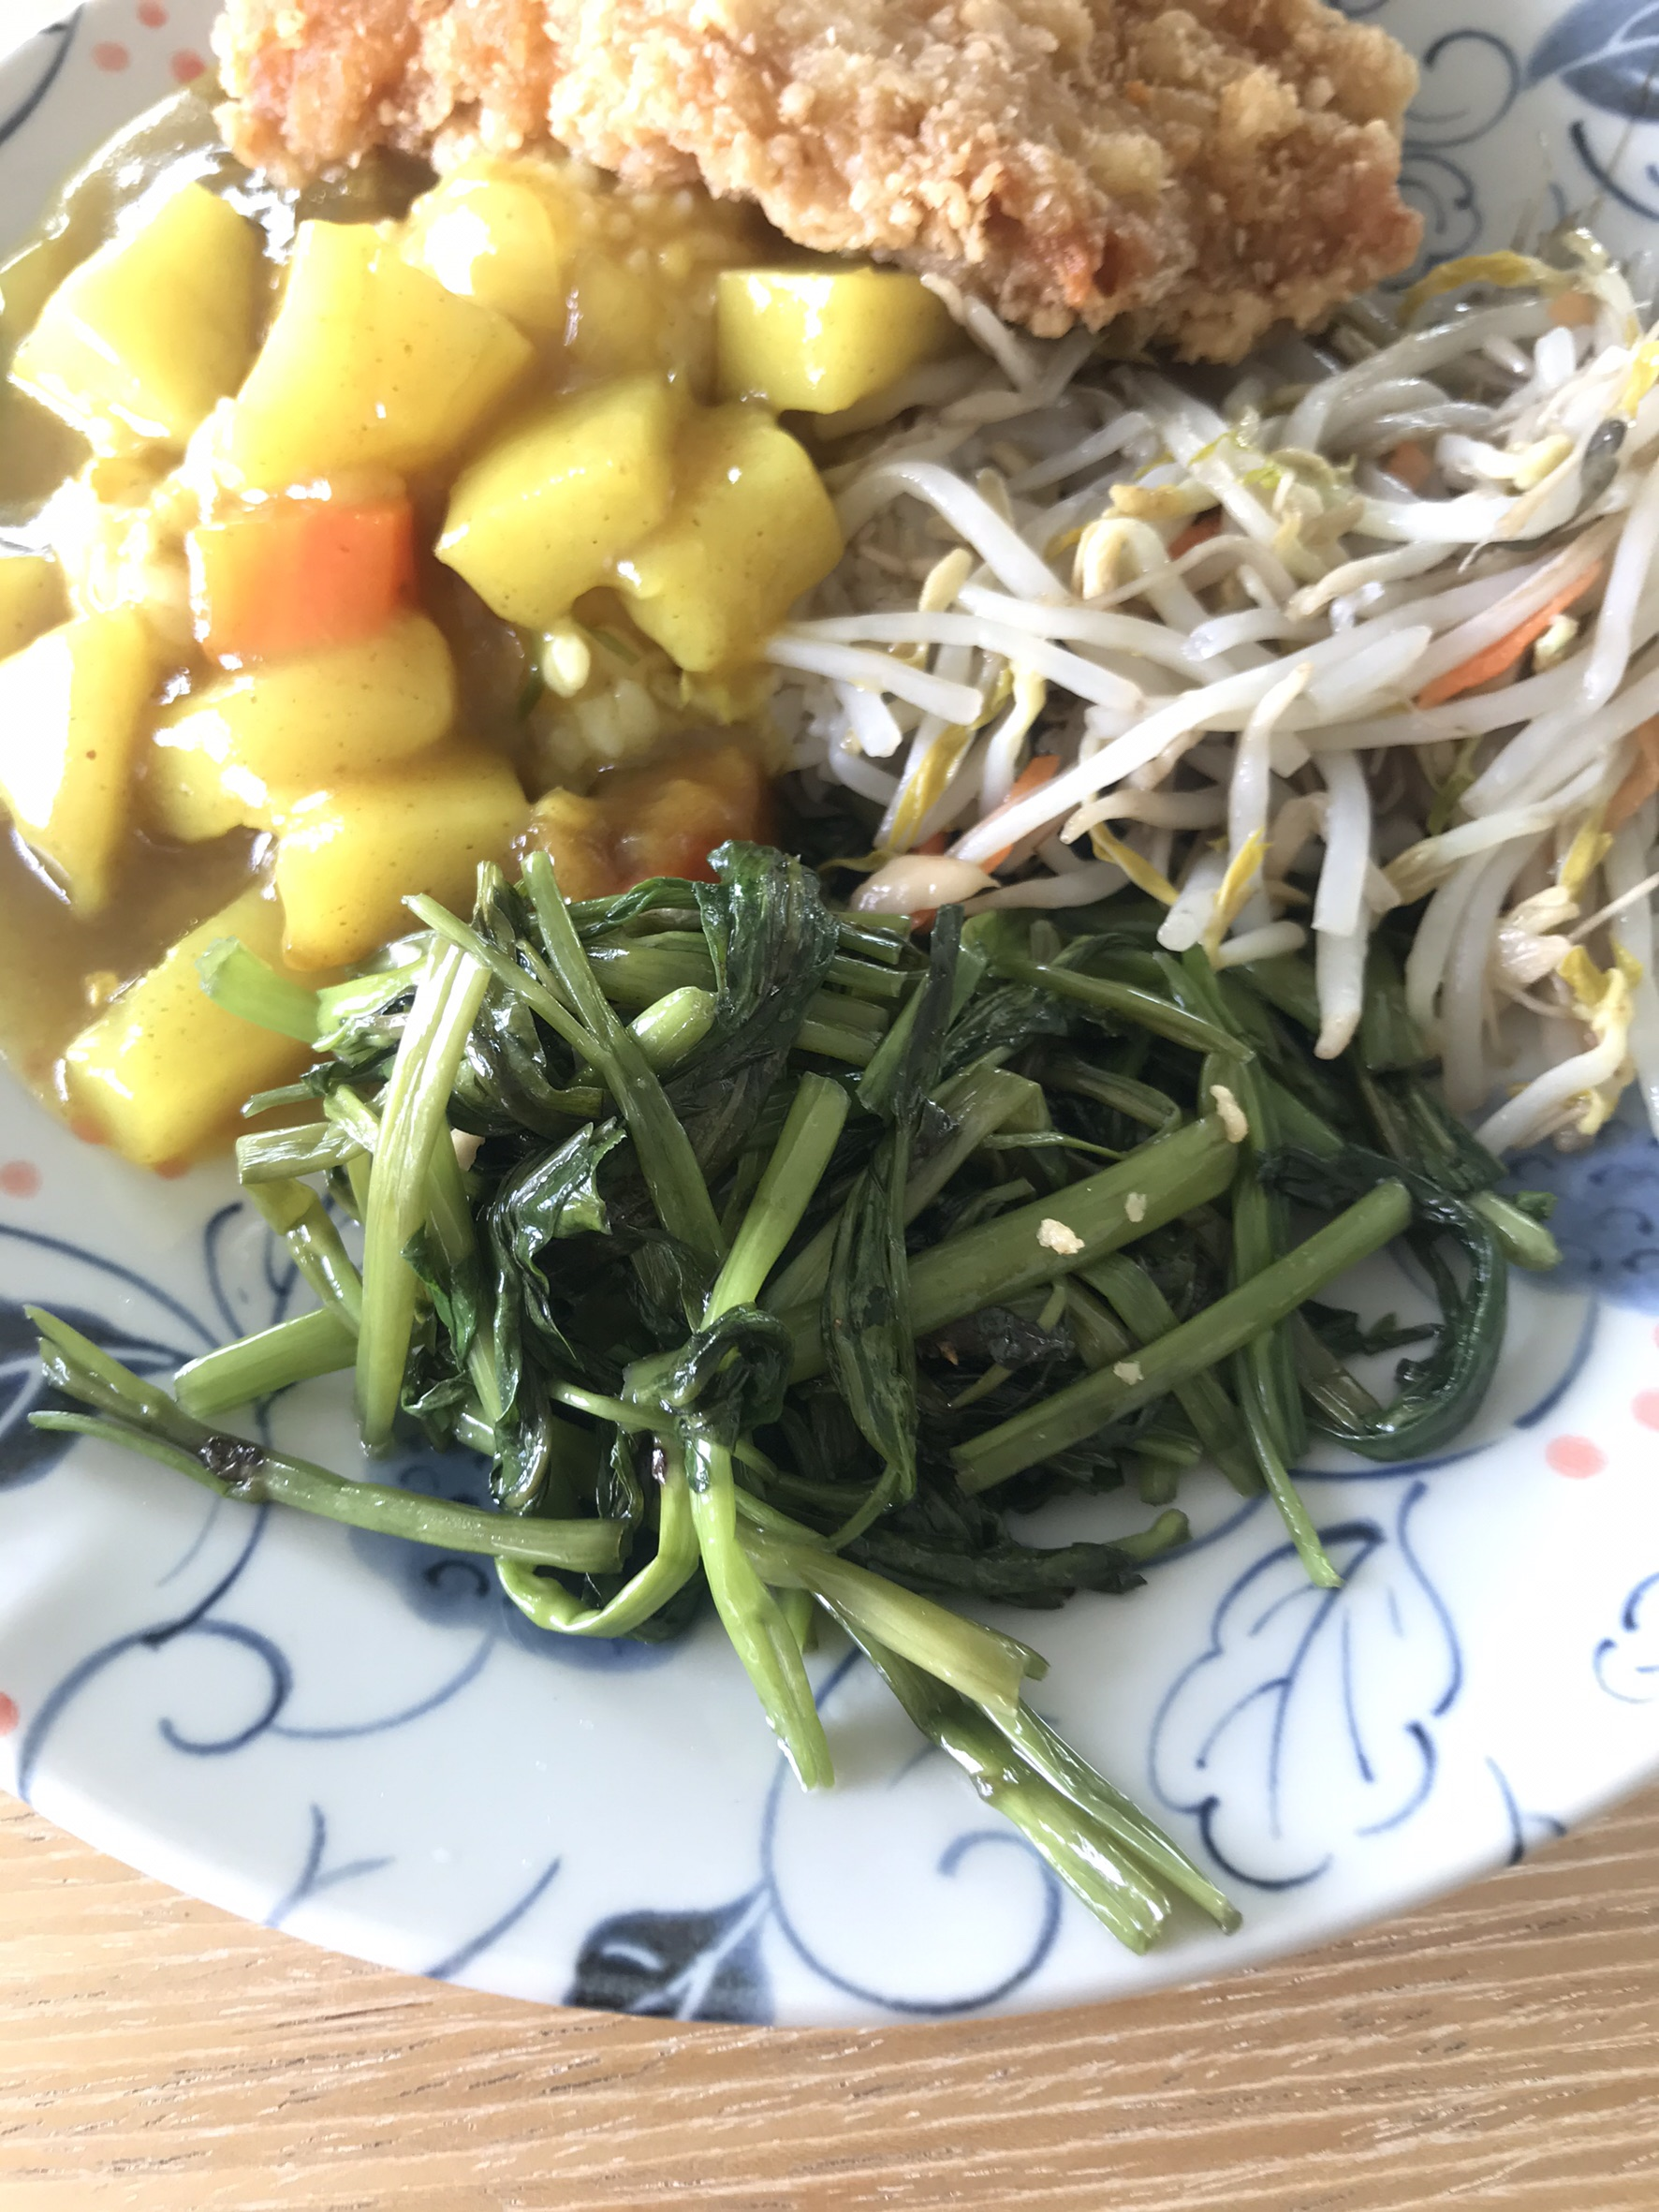curry: (2, 253, 667, 953)
fried_chicken: (308, 2, 1363, 204)
mung_bean_sprouts: (1039, 392, 1659, 877)
water_spinach: (267, 882, 1378, 1578)
